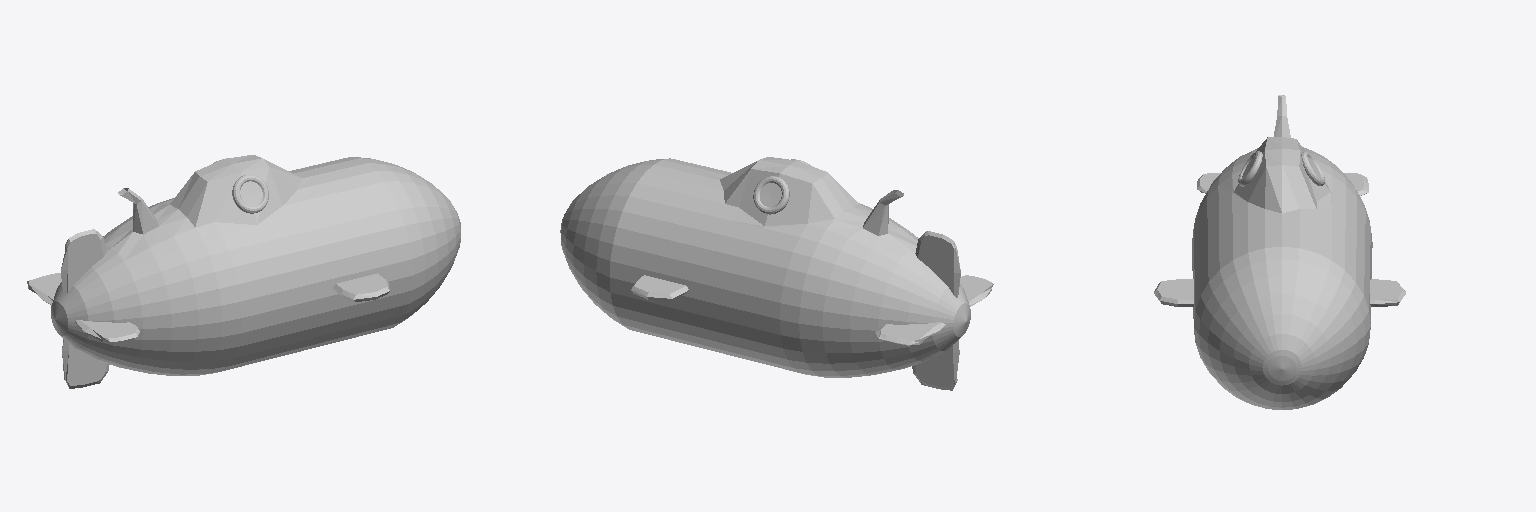
The picture shows the model from 3 angles: view 1: azimuth 30°, elevation 25°; view 2: azimuth 150°, elevation 25°; view 3: azimuth 270°, elevation 25°; orthographic projection.
Visible parts, largest first — view 1: Lodka_Куб.002; view 2: Lodka_Куб.002; view 3: Lodka_Куб.002.
Boxes of the visible parts, <box> form: Lodka_Куб.002: <box>27,155,460,388</box>; Lodka_Куб.002: <box>560,157,993,390</box>; Lodka_Куб.002: <box>1154,95,1405,409</box>.
Size of the model in its own units: 5.11 by 2.38 by 2.8.